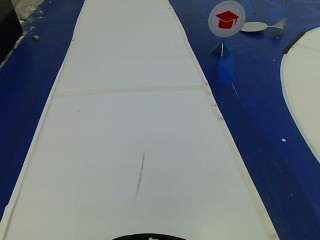school: (205, 0, 245, 38)
